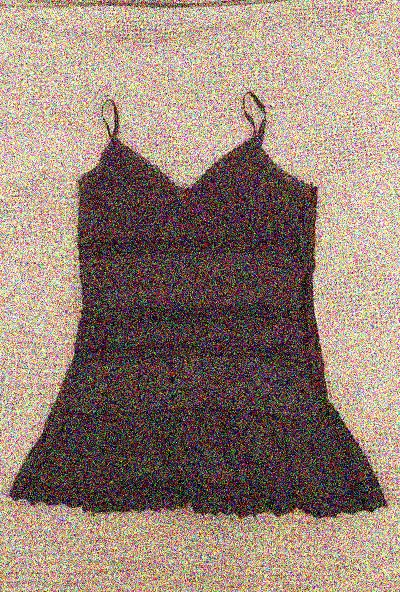Dress: (12, 90, 388, 538)
